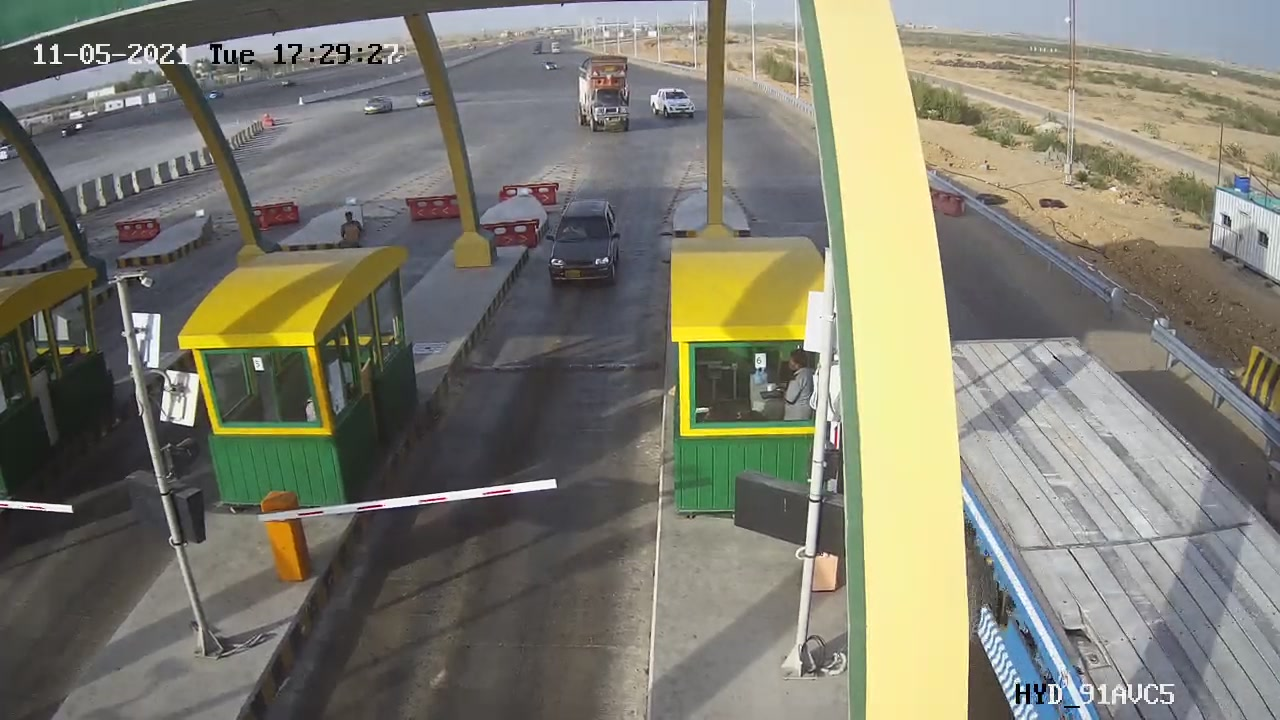F1: (531, 188, 642, 296)
